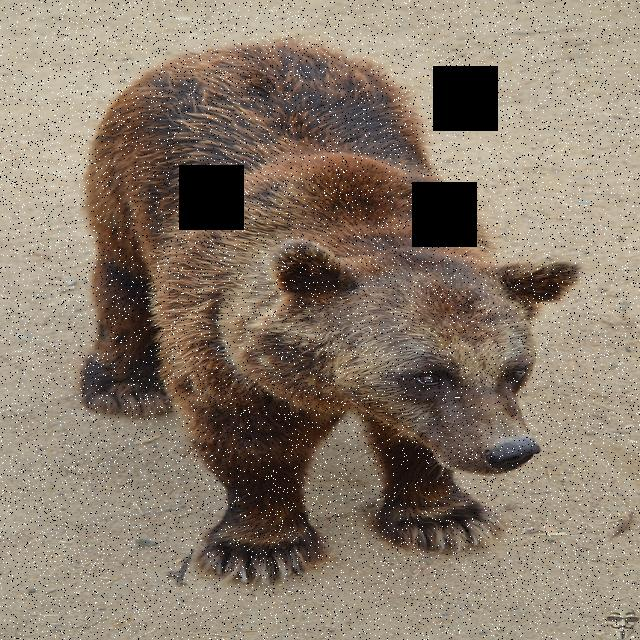Bear: (80, 31, 567, 572)
